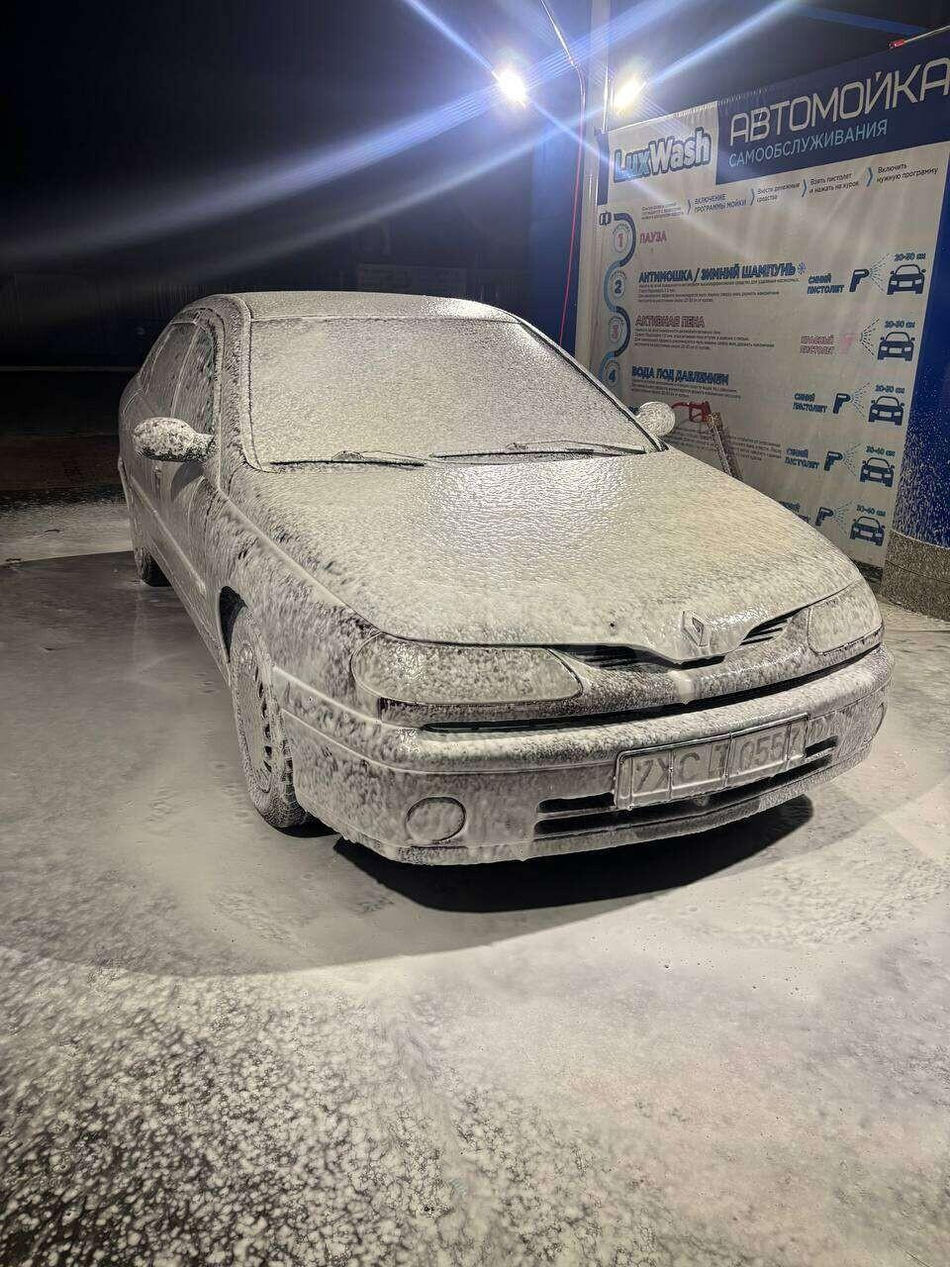Laguna_1998-2001: (112, 274, 891, 889)
